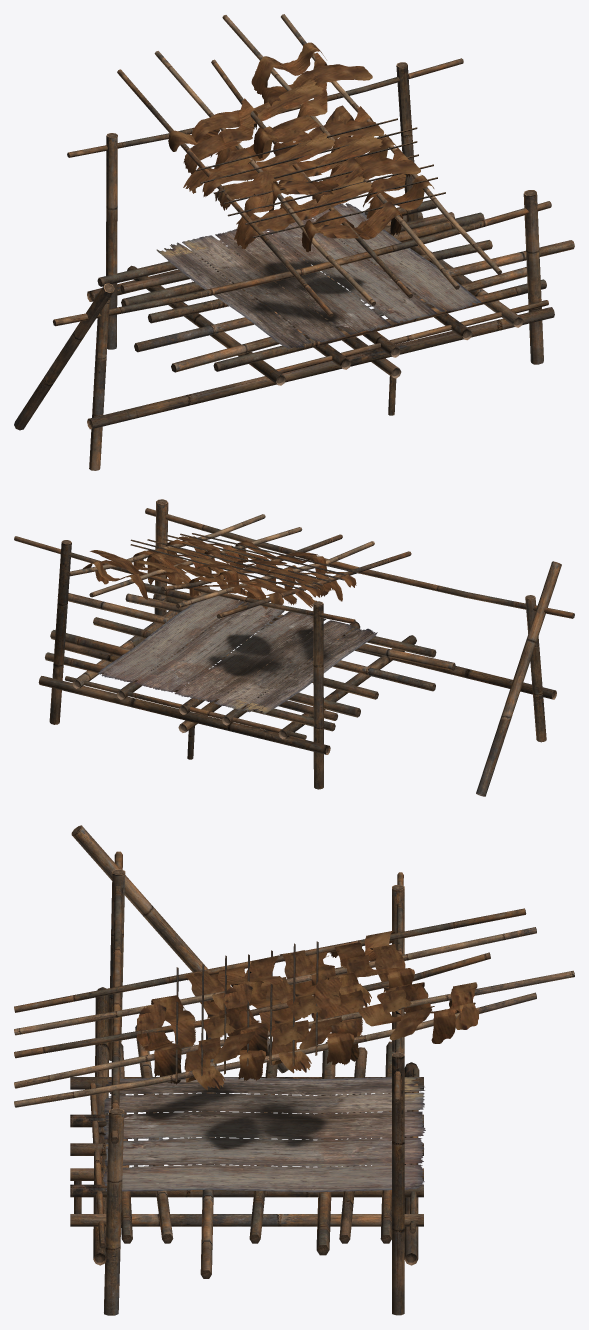
Rendered from House 06.FBX.
3 views of the same model, one above another, from view 1: azimuth 30°, elevation 25°; view 2: azimuth 150°, elevation 25°; view 3: azimuth 270°, elevation 25° (orthographic). The views are drawn at different scales.
Visible parts, largest first — view 1: House 06; view 2: House 06; view 3: House 06.
Part boxes in pixels (x1=…): House 06: x1=14, y1=14, x2=574, y2=470; House 06: x1=14, y1=499, x2=574, y2=796; House 06: x1=14, y1=825, x2=574, y2=1315.
Size of the model in its own units: 38.57 by 16.4 by 28.56.
